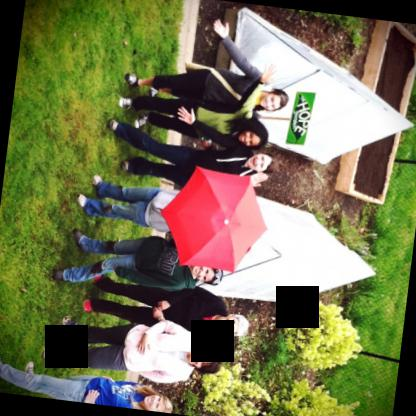handbag: (181, 61, 240, 103)
